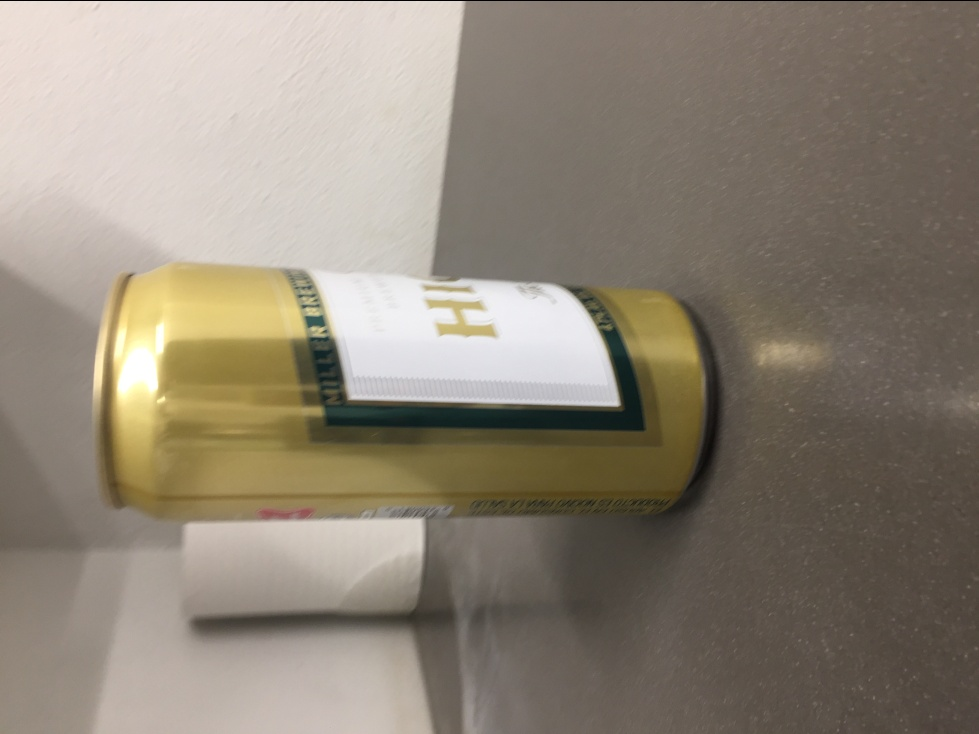miller: (87, 256, 714, 523)
